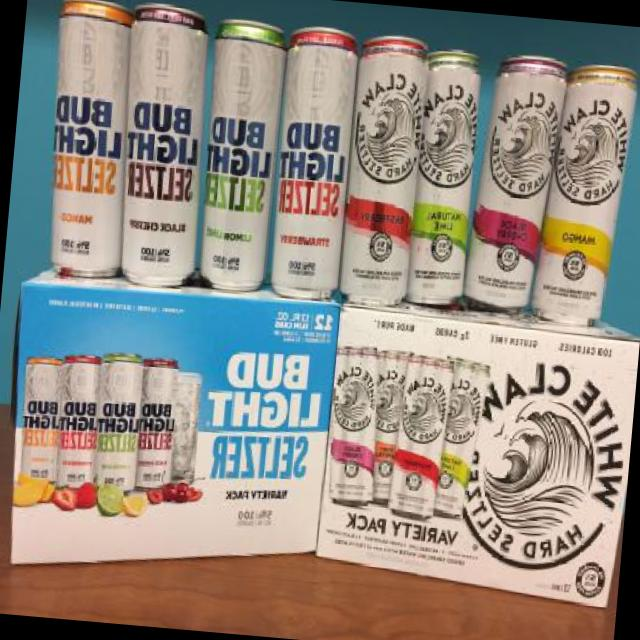Kaleng: (47, 10, 640, 326)
Kardus: (0, 294, 636, 611)
